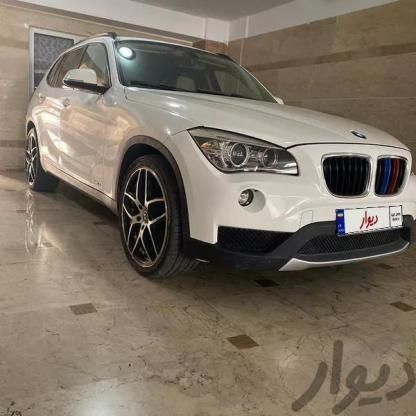Car: (0, 30, 416, 276)
